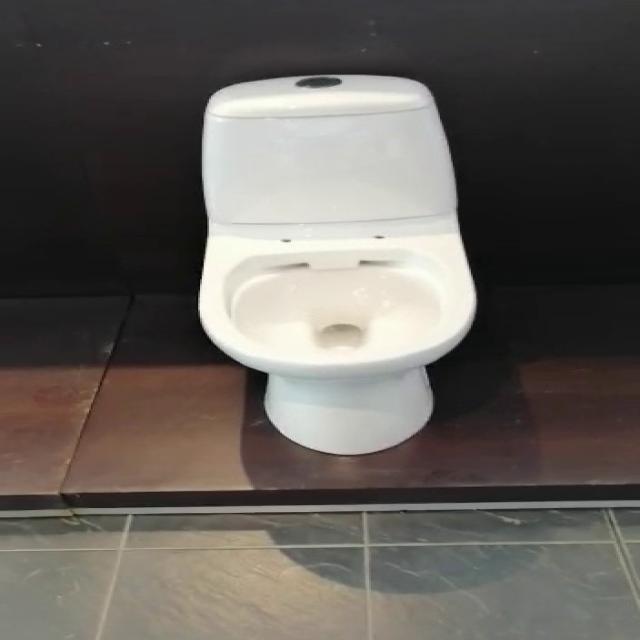toilet: (196, 74, 478, 455)
